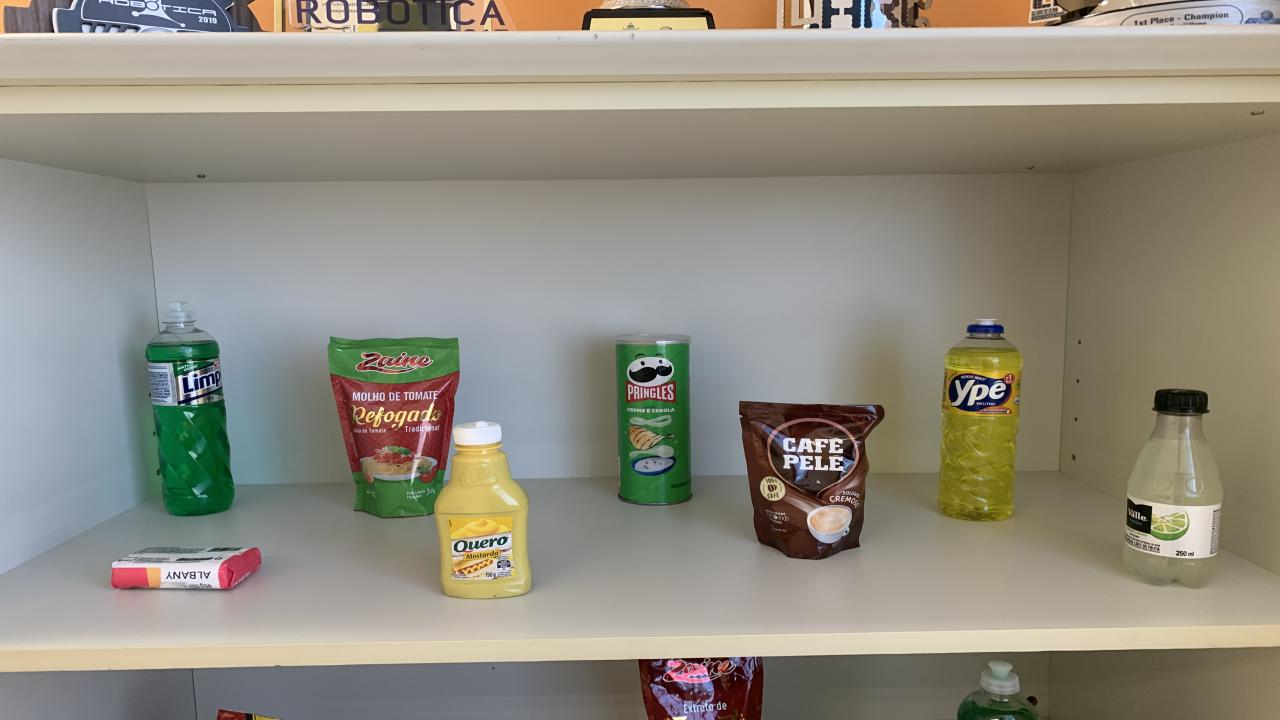Coffee-Pantry_Items: (740, 401, 885, 559)
Detergent-Cleanup_Items: (145, 302, 235, 516), (938, 319, 1022, 521), (958, 660, 1040, 720)
Mustard-Pantry_Items: (435, 422, 530, 598)
Pringles-Snacks: (615, 334, 692, 504)
Soap-Cleanup_Items: (110, 548, 262, 589)
Soda-Drinks: (1122, 390, 1222, 589)
Tomato_Sauce-Pantry_Items: (328, 338, 460, 518), (638, 656, 762, 720)
